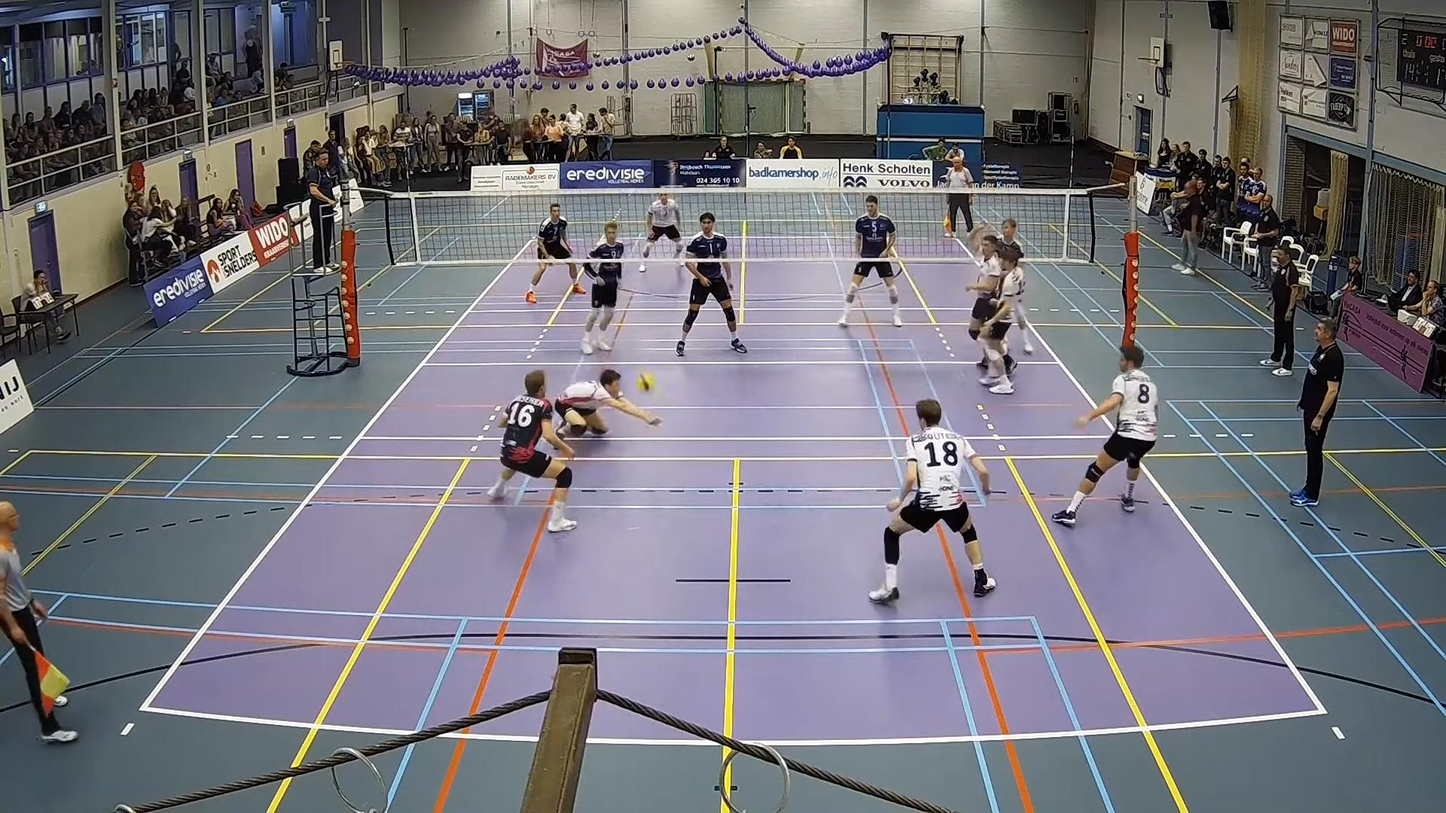difesa: (540, 369, 669, 438)
